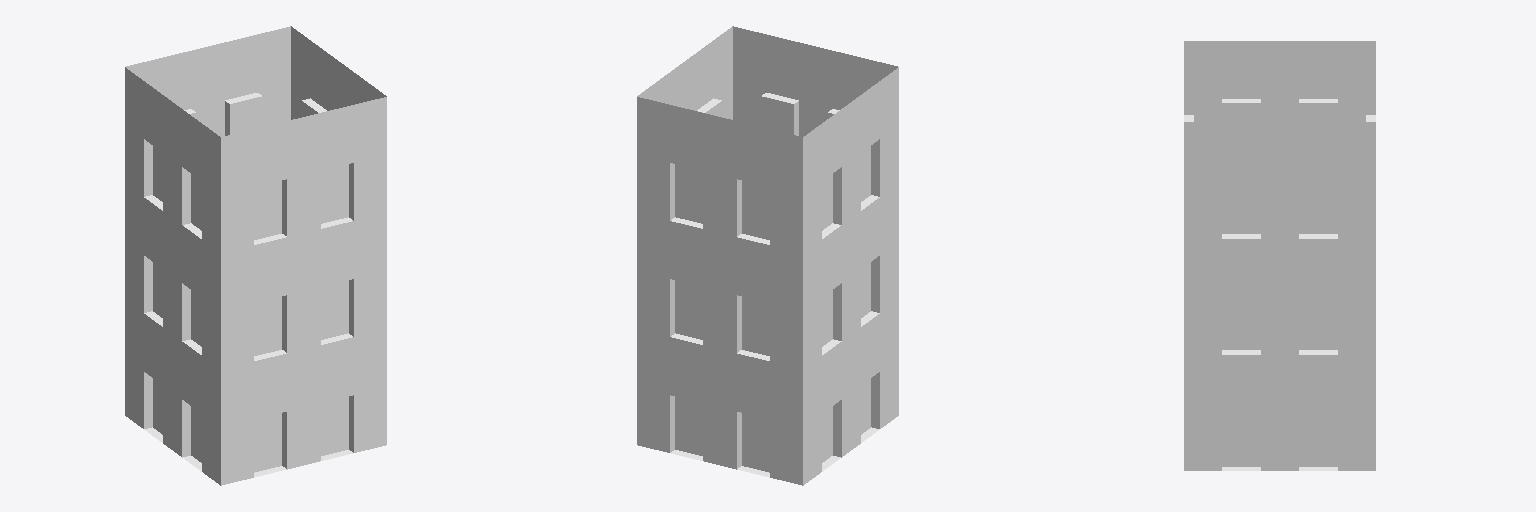
File: LP_House_3.obj
3 renders of one model, left to right at view 1: azimuth 30°, elevation 25°; view 2: azimuth 150°, elevation 25°; view 3: azimuth 270°, elevation 25°, orthographic.
Parts seen in each view (by area): view 1: Box001; view 2: Box001; view 3: Box001.
Part boxes in pixels (x1,y1,x2,y2): Box001: (125,26,386,485); Box001: (637,26,898,485); Box001: (1184,41,1375,470).
Size of the model in its own units: 15 by 30 by 15.